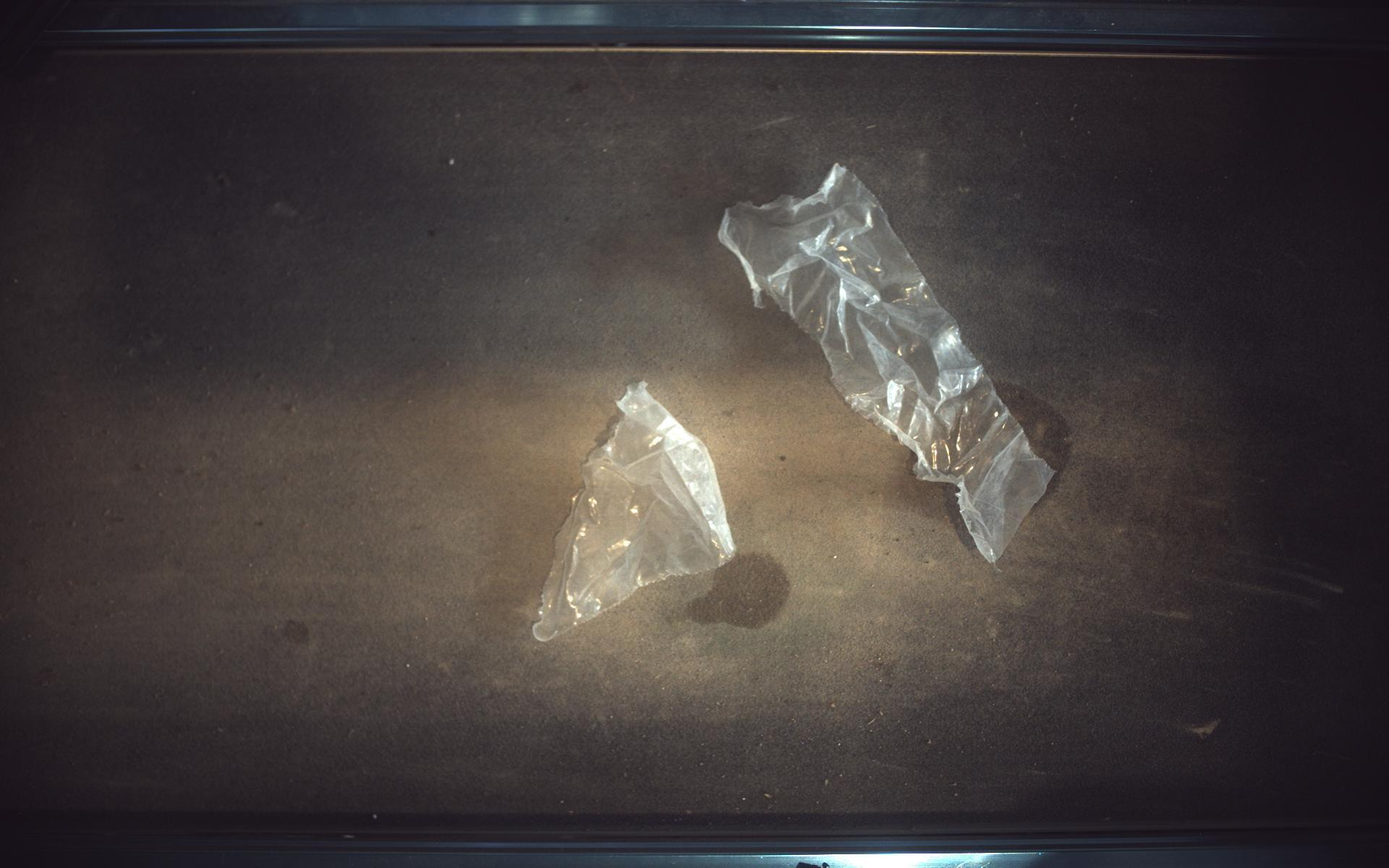general_w: (720, 163, 1055, 563), (534, 382, 736, 642)
